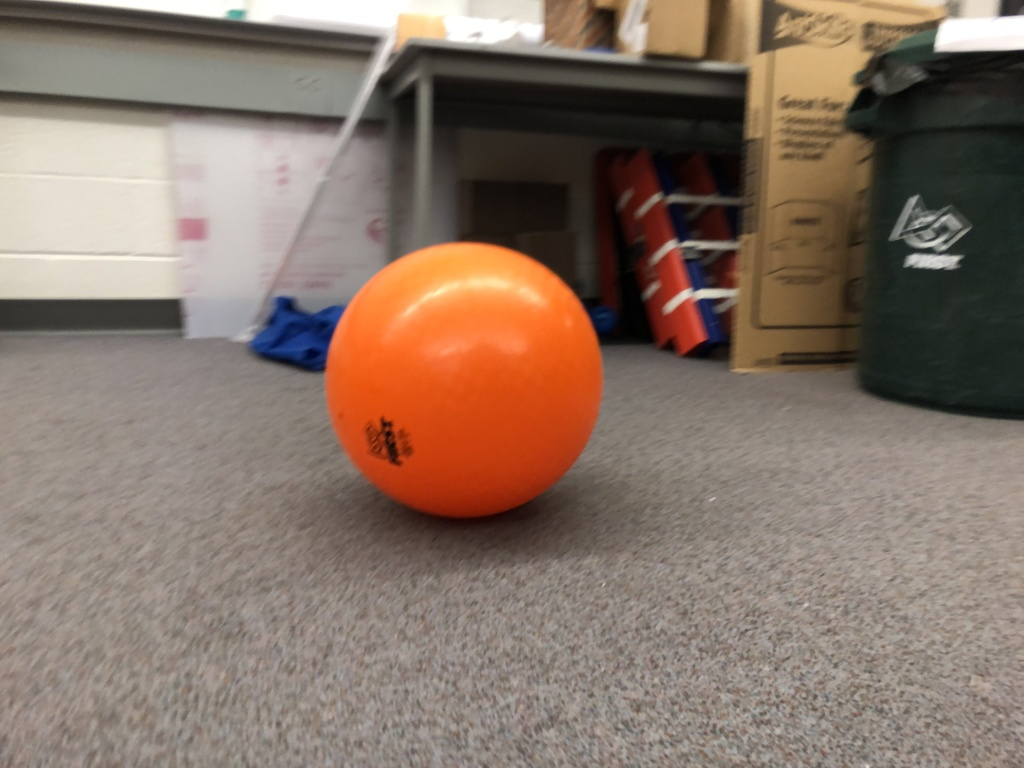cargo: (313, 233, 615, 540)
